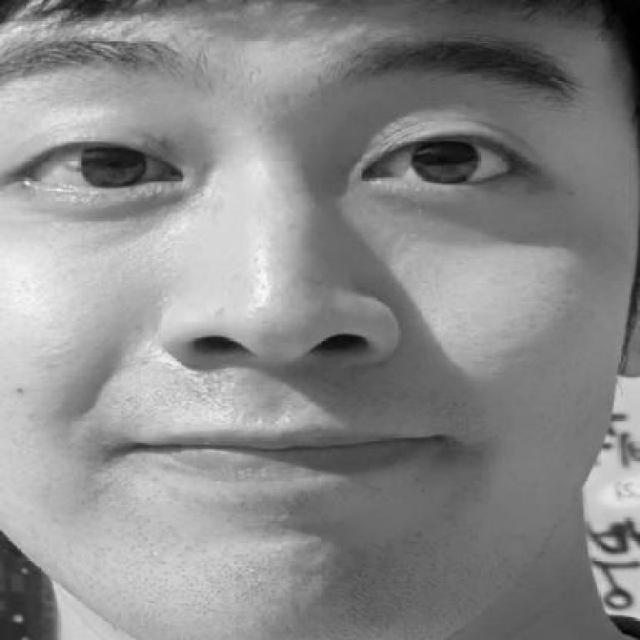happy: (0, 29, 605, 516)
